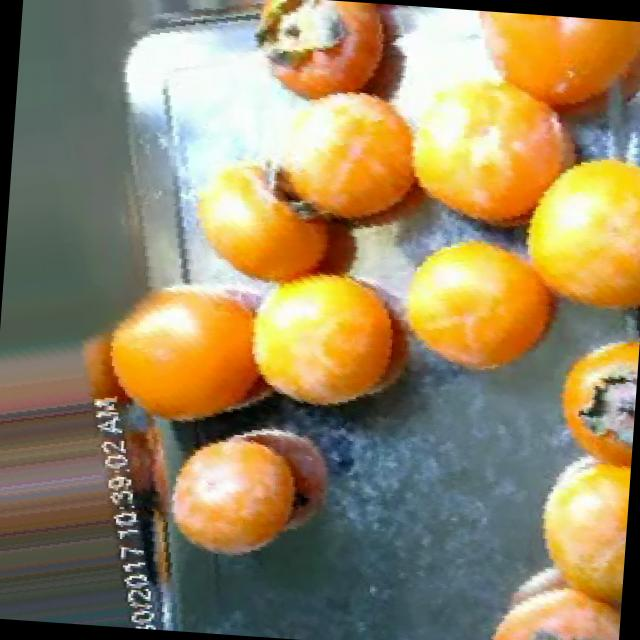Fruit: (375, 216, 590, 398), (150, 411, 352, 590), (473, 609, 620, 640)
